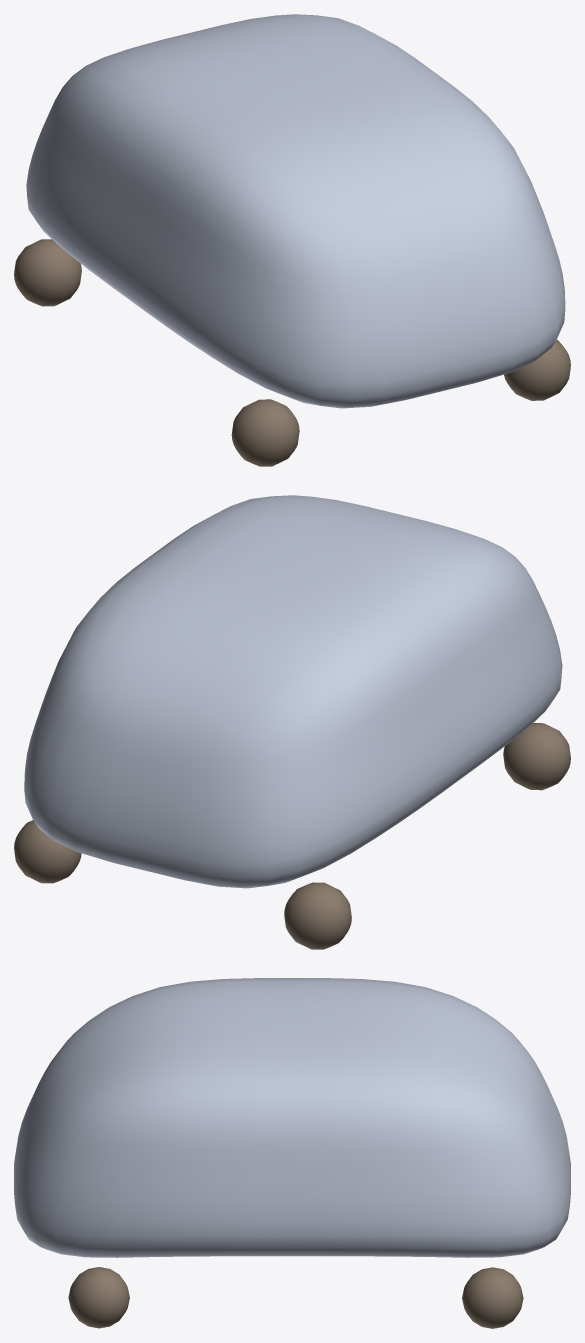
The model's file is soap_box_2_default_scanline_renderer.fbx.
The picture shows the model from 3 angles, top to bottom: view 1: azimuth 30°, elevation 25°; view 2: azimuth 150°, elevation 25°; view 3: azimuth 270°, elevation 25°; orthographic projection. The views are drawn at different scales.
Parts seen in each view (by area): view 1: soap, Sphere08, Sphere09, Sphere11; view 2: soap, Sphere09, Sphere08, Sphere10; view 3: soap, Sphere10, Sphere11.
Part boxes in pixels (<box>): soap: <box>26,14,565,408</box>; Sphere08: <box>231,399,299,466</box>; Sphere09: <box>14,239,81,306</box>; Sphere11: <box>504,340,570,400</box>; soap: <box>24,495,562,888</box>; Sphere09: <box>284,882,351,949</box>; Sphere08: <box>503,723,570,790</box>; Sphere10: <box>14,820,81,883</box>; soap: <box>14,978,570,1257</box>; Sphere10: <box>462,1267,523,1328</box>; Sphere11: <box>68,1267,129,1328</box>.
Bounding box in the file's own units: 7.38 × 5.35 × 11.04.
